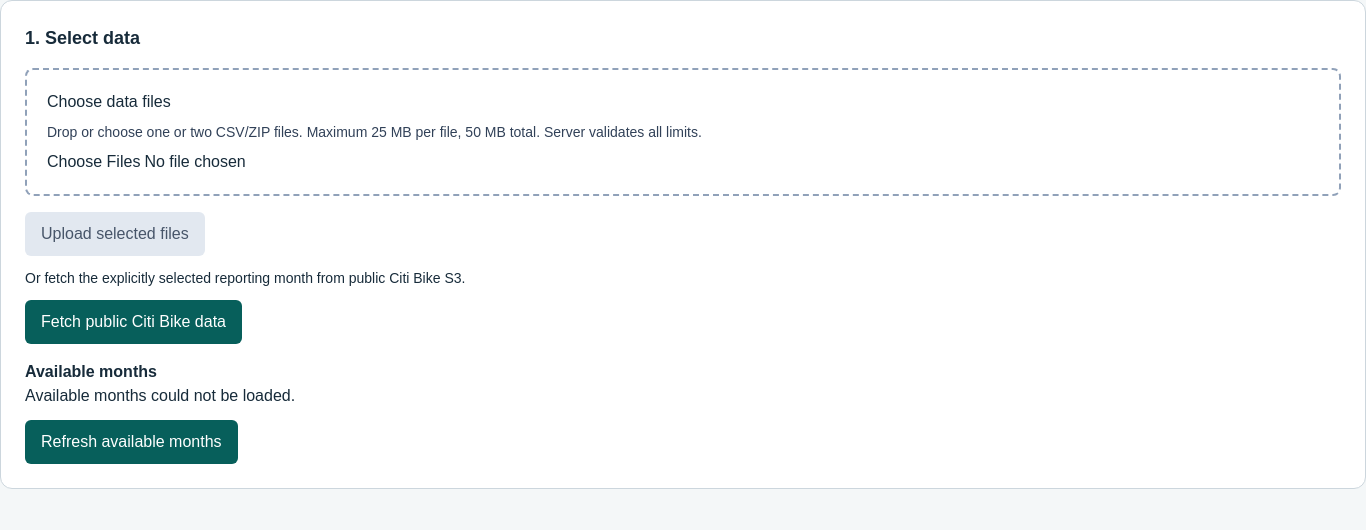
Test: shows service errors and allows retry
Expected: the text "Available months could not be loaded." is shown, 25,387 -> 295,404
Click the button "Fetch public Citi Bike data": (134, 322) 25,300 -> 242,344
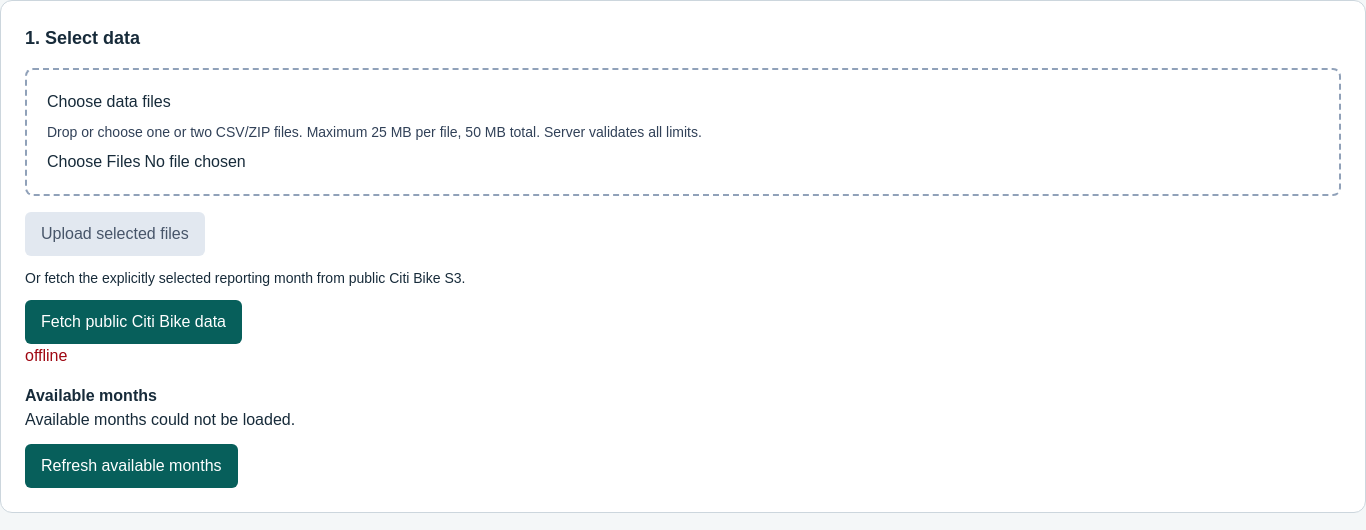
Expected: the message "offline" is shown, 25,347 -> 67,364
Click the button "Refresh available months": (131, 466) 25,444 -> 238,488
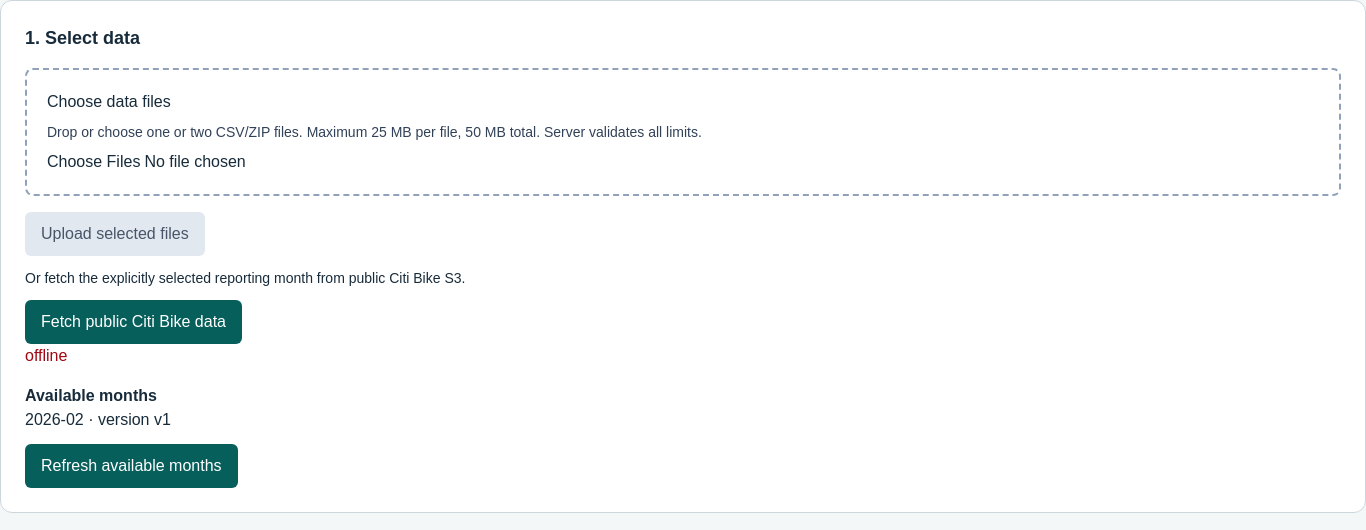
Expected: the list item "2026-02 · version v1" is shown, 25,411 -> 171,428
